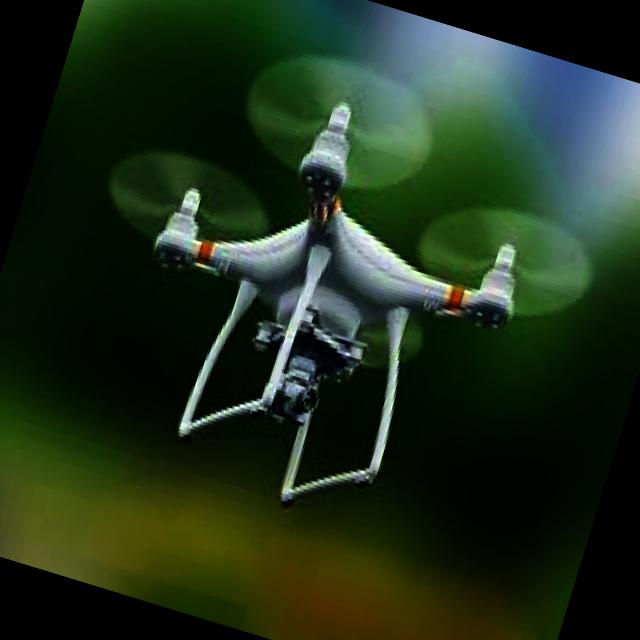drone: (51, 16, 630, 589)
